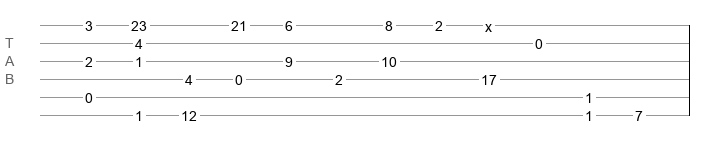0: (85, 90, 93, 100), (235, 72, 243, 82), (535, 36, 543, 46)
1: (135, 108, 143, 118), (135, 54, 143, 64), (585, 108, 593, 118), (585, 90, 593, 100)
10: (381, 54, 397, 64)
12: (181, 108, 197, 118)
17: (481, 72, 497, 82)
2: (85, 54, 93, 64), (335, 72, 343, 82), (435, 18, 443, 28)
21: (231, 18, 247, 28)
23: (131, 18, 147, 28)
3: (85, 18, 93, 28)
4: (135, 36, 143, 46), (185, 72, 193, 82)
6: (285, 18, 293, 28)
7: (635, 108, 643, 118)
8: (385, 18, 393, 28)
9: (285, 54, 293, 64)
x: (485, 19, 492, 27)
